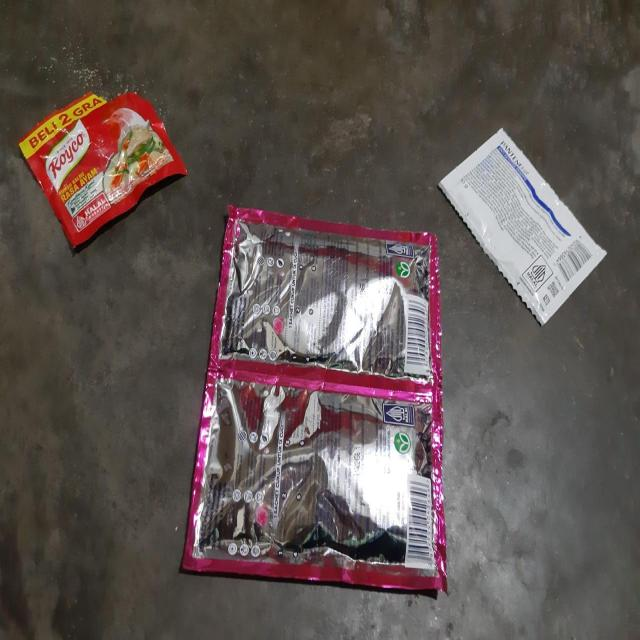KemasanPlastik: (180, 204, 448, 593), (436, 119, 608, 325), (18, 81, 186, 249)
